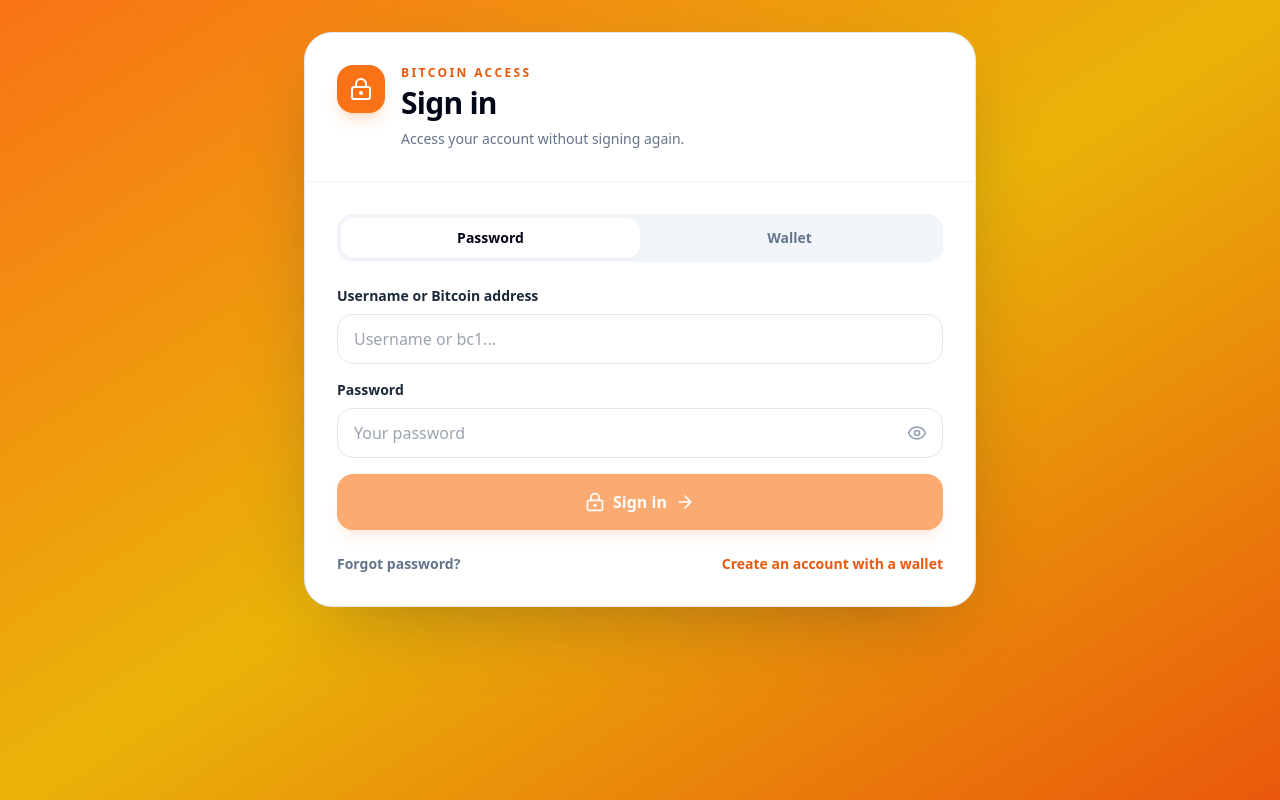
it: requires a wallet proof before password recovery
Click the button "Forgot password?" at (399, 564), box [337, 554, 460, 574]
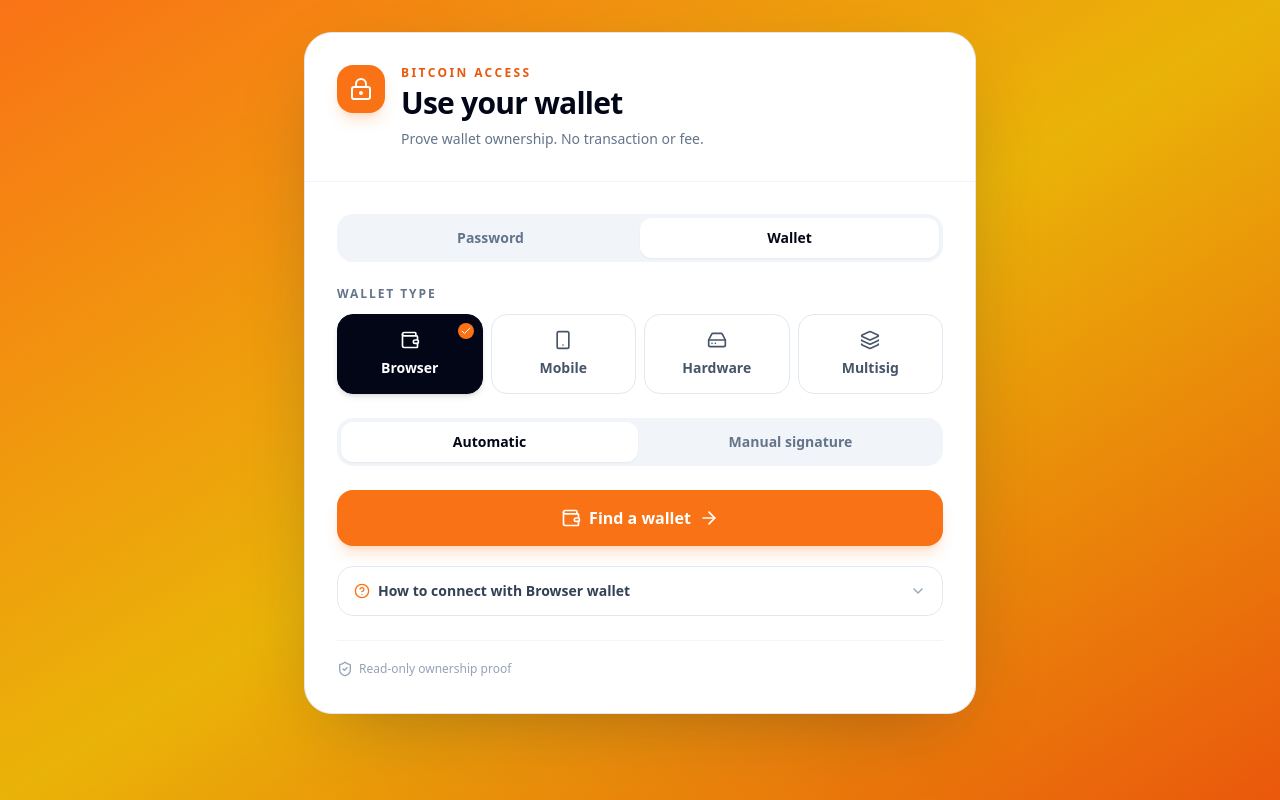
expect the heading "Use your wallet" is shown: met, box [401, 82, 622, 123]
expect the text "Wallet type" is shown: met, box [337, 285, 437, 302]
